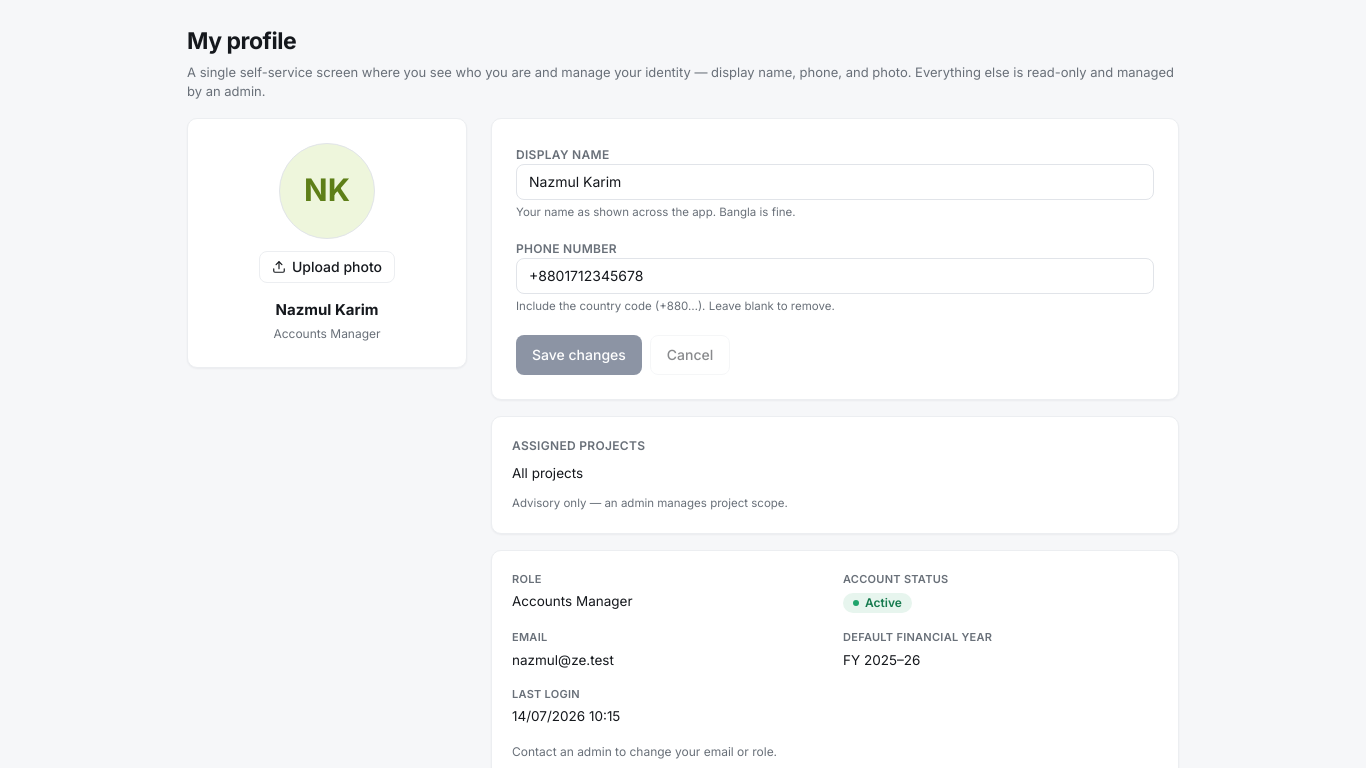
AccountProfileScreen — name/phone edit (FR-AUD-032/-034/-037) › Save is disabled until a field changes; enables on edit
Expected: the button with test id "profile-save" is disabled, left=516, top=335, right=642, bottom=375
Type " Jr." into the field with test id "profile-name-input" at (835, 182), box left=516, top=164, right=1154, bottom=200
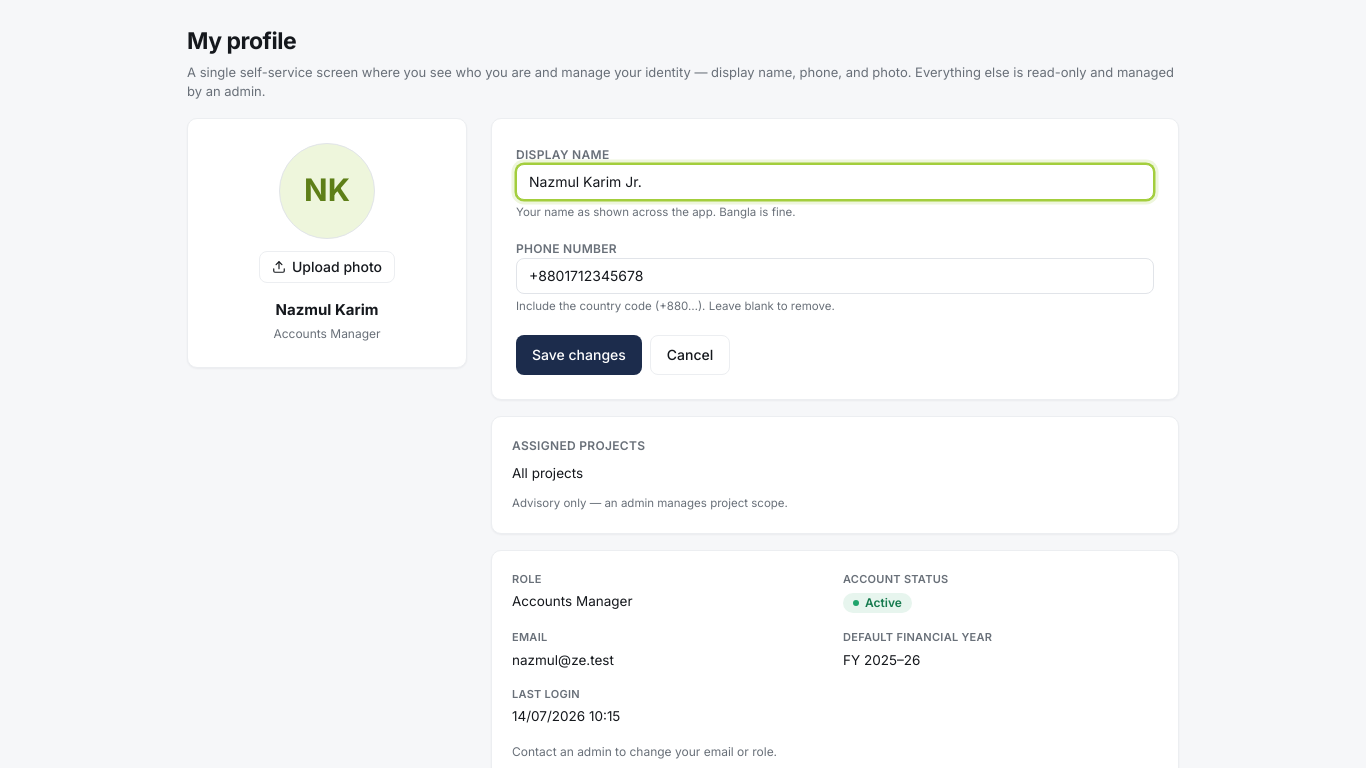
Expected: the button with test id "profile-save" is enabled, left=516, top=335, right=642, bottom=375
